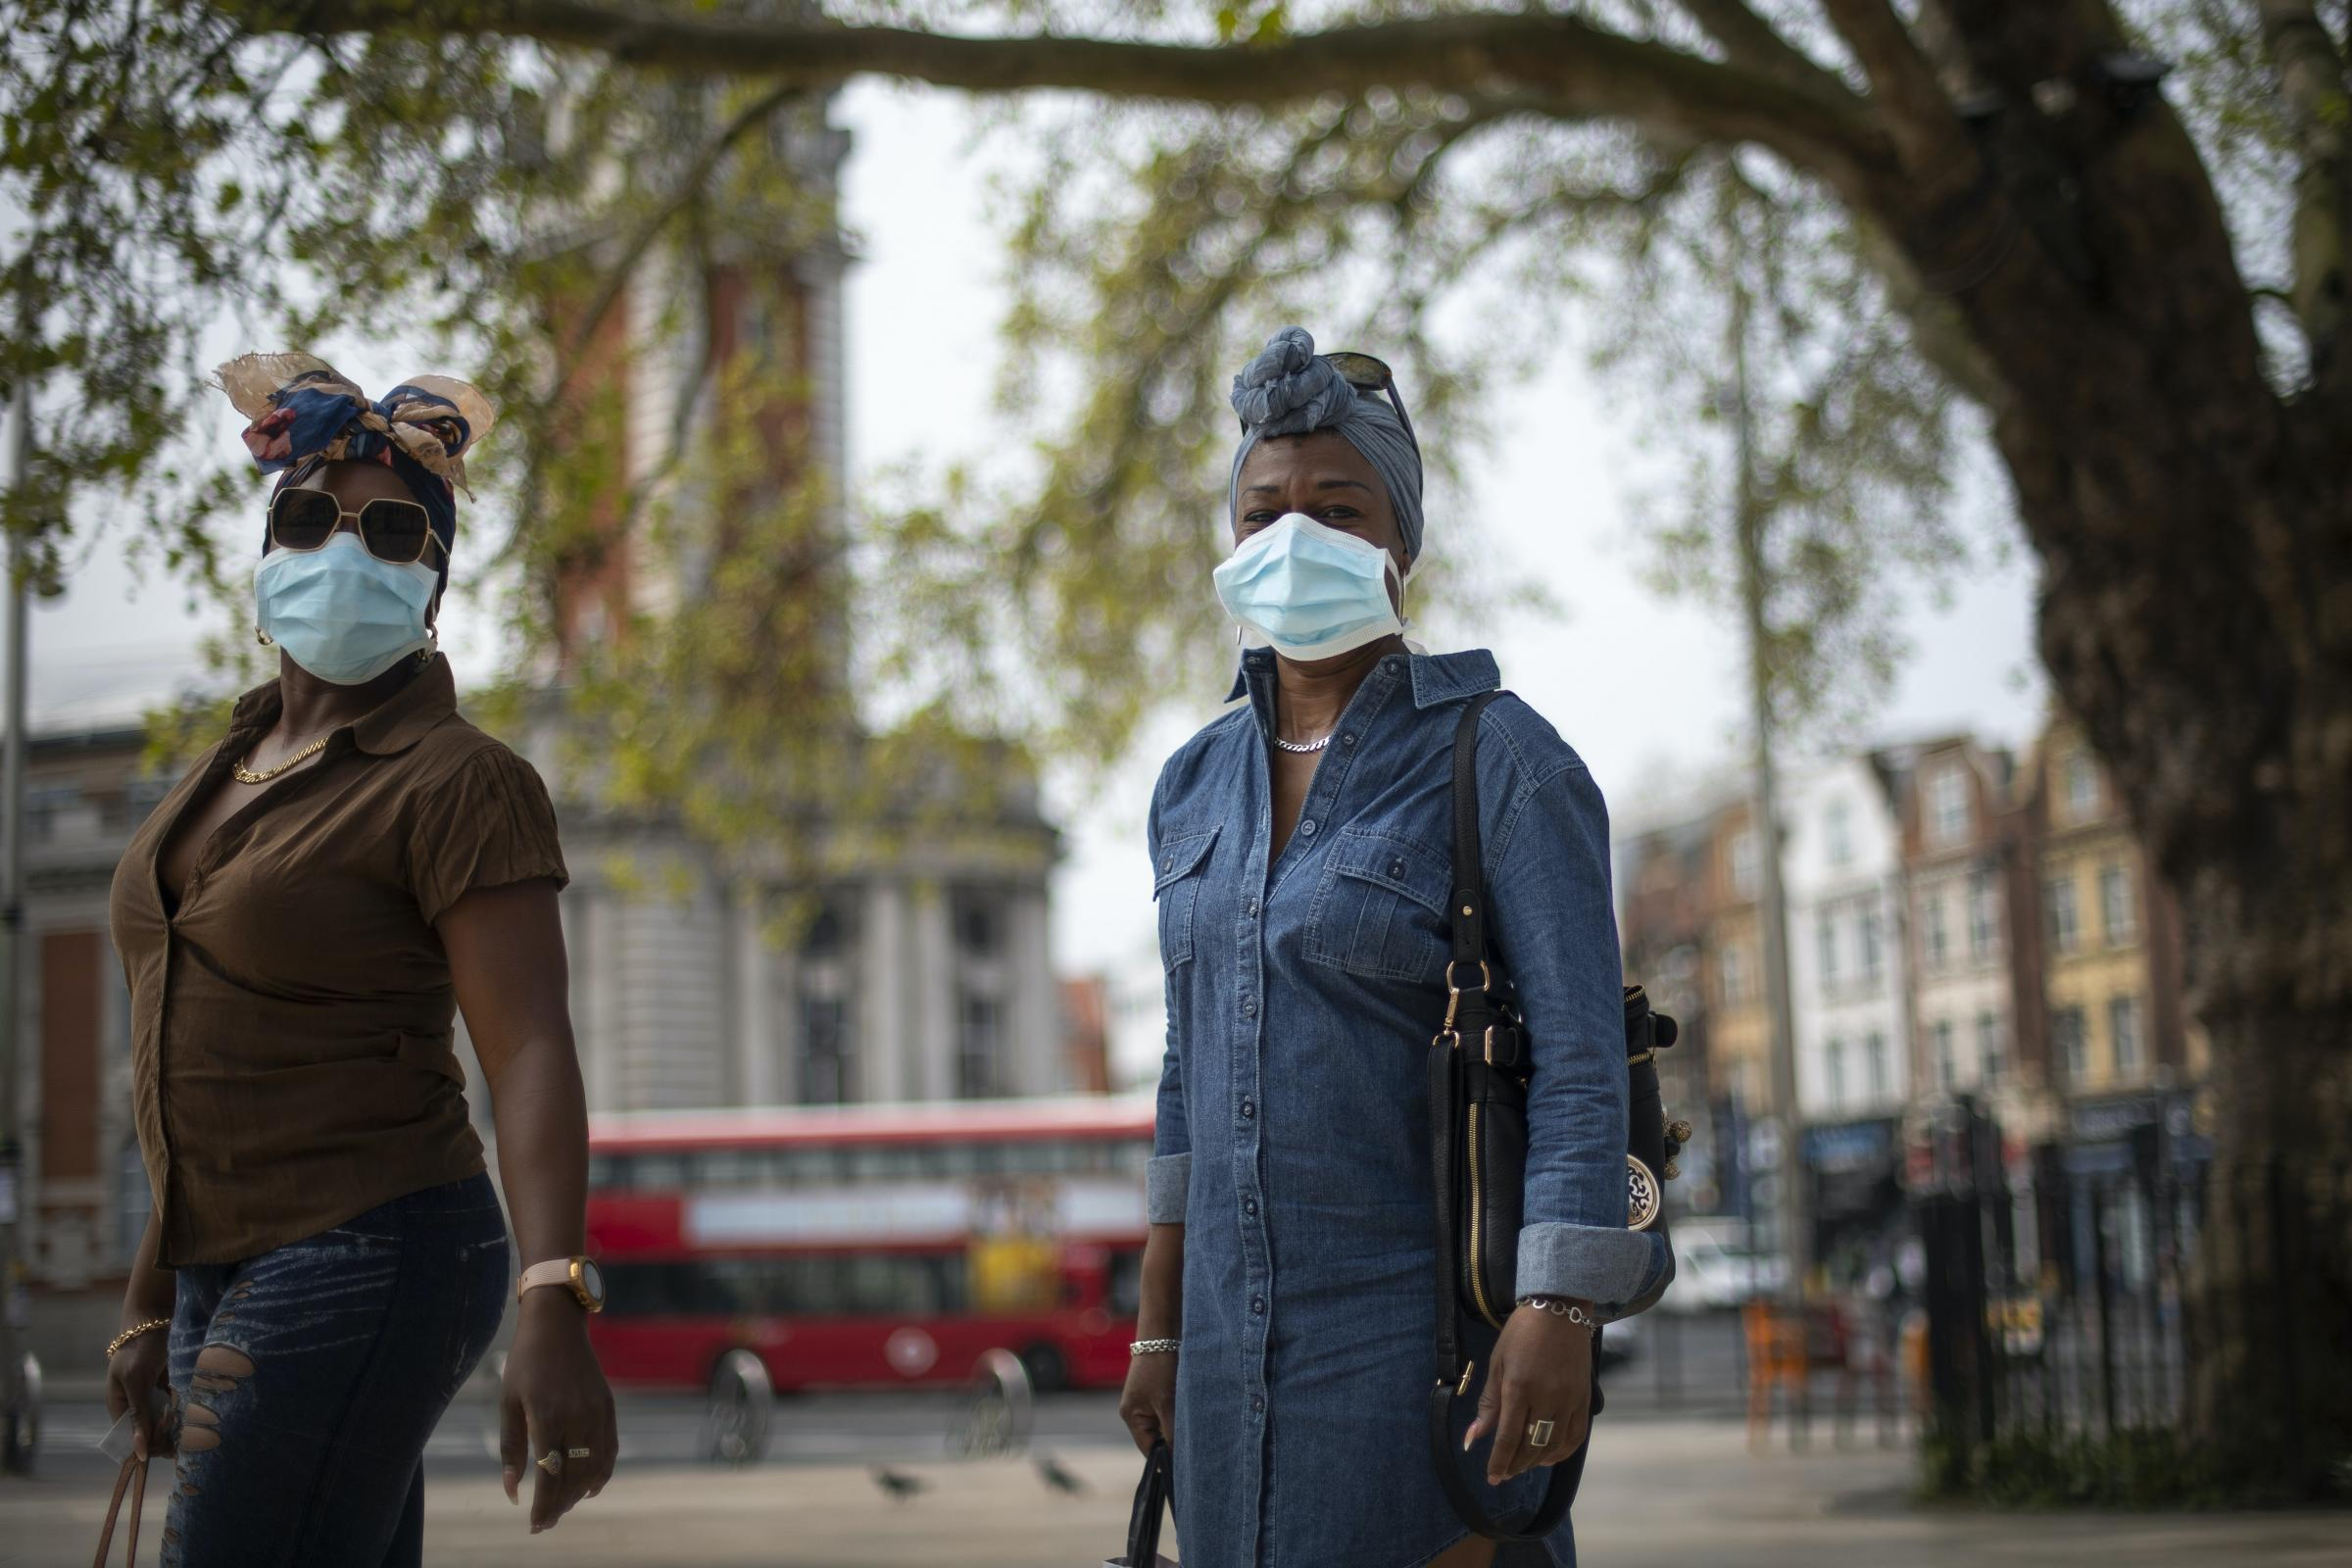with_mask: (260, 493, 448, 664), (1233, 475, 1395, 645)
